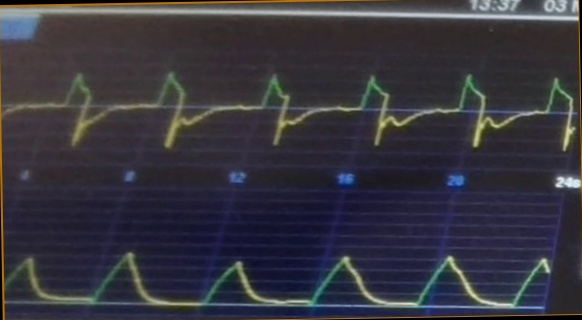Premature_cycling Flow: (3, 54, 577, 159)
Premature_cycling Volume: (5, 228, 548, 315)
